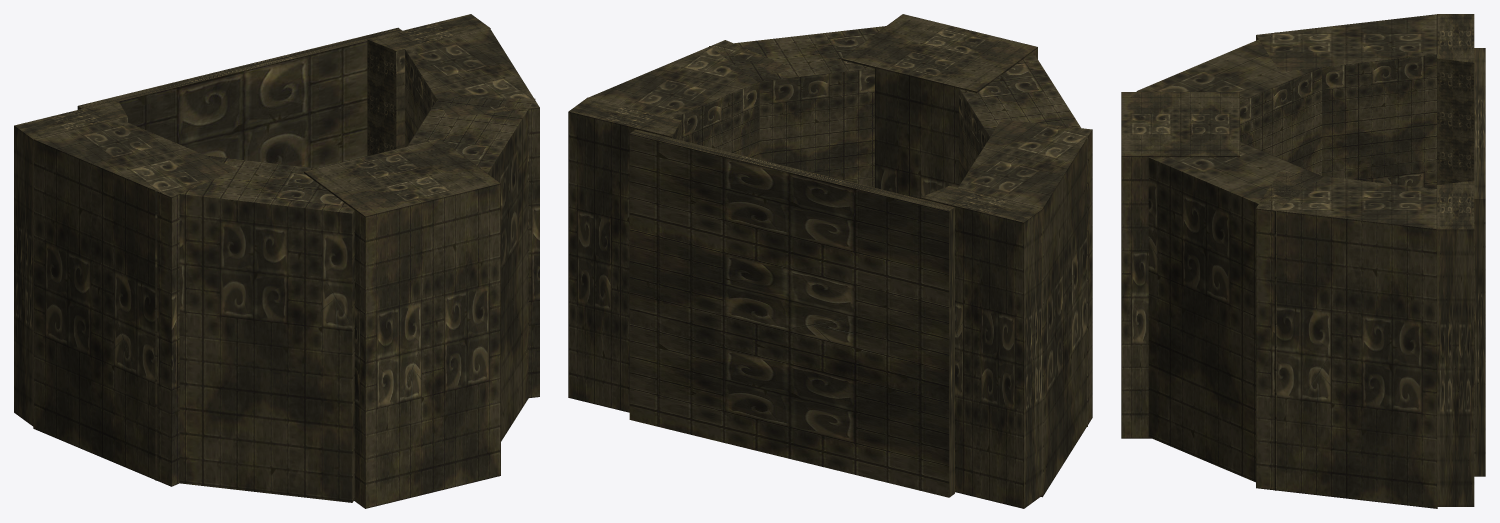
The model's file is cooridor3_wtf.obj.
3 renders of one model, left to right at view 1: azimuth 30°, elevation 25°; view 2: azimuth 150°, elevation 25°; view 3: azimuth 270°, elevation 25°, orthographic. The views are drawn at different scales.
Parts seen in each view (by area): view 1: group2; view 2: group2; view 3: group2.
Part boxes in pixels (left/top/right/bottom): group2: left=14, top=14, right=539, bottom=508; group2: left=568, top=14, right=1092, bottom=508; group2: left=1121, top=14, right=1485, bottom=508.
Bounding box in the file's own units: 660 × 403 × 471.
